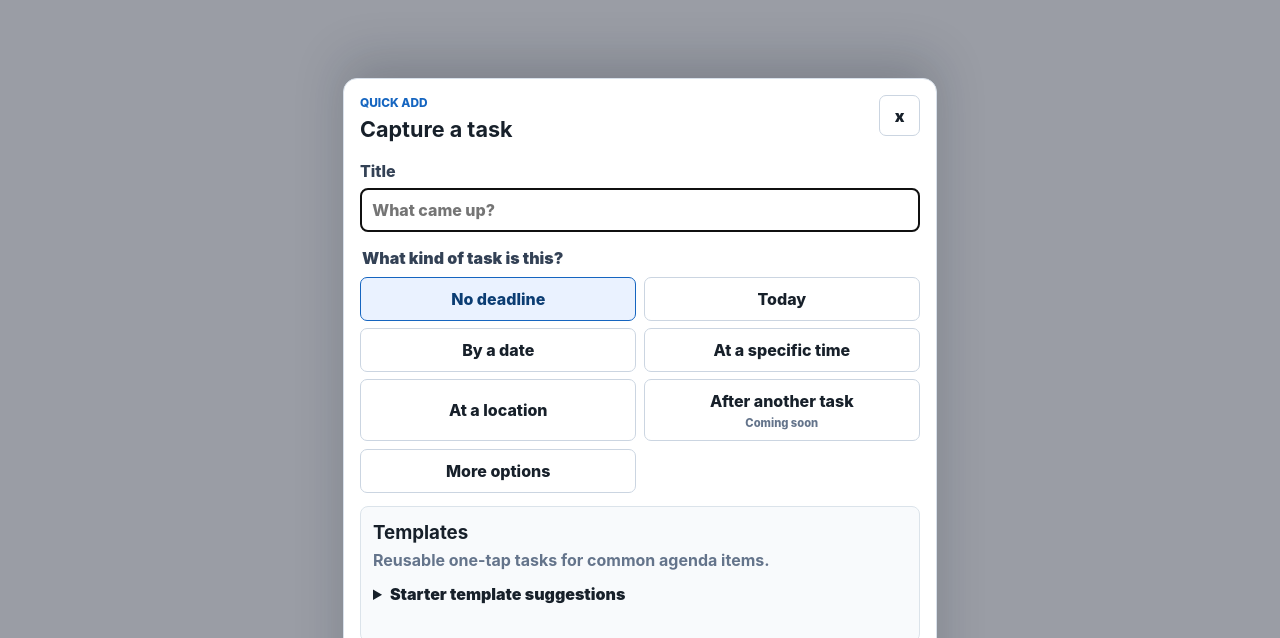
Test: QuickAddTaskSheet › starter suggestion opens prefilled template form with icon
The image size is (1280, 638).
Click the heading "Starter template suggestions" at (508, 594), box [390,584,625,604]
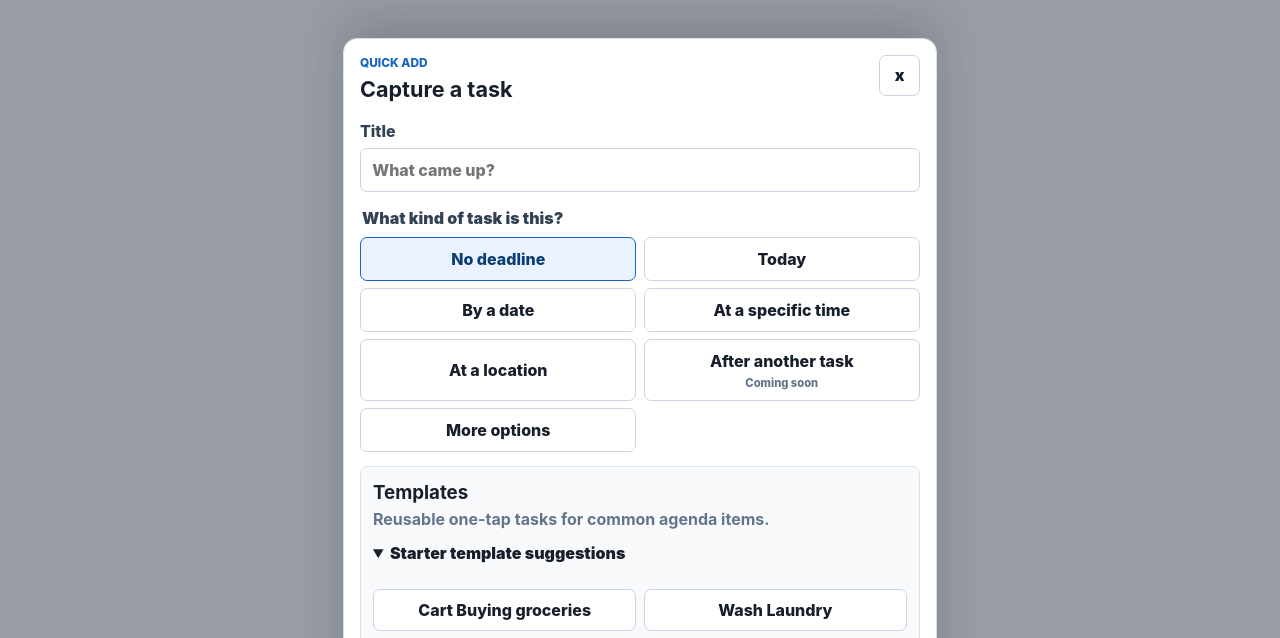
Click the button "Cart Buying groceries" at (505, 610), box [373,589,636,631]
(page scrolled)
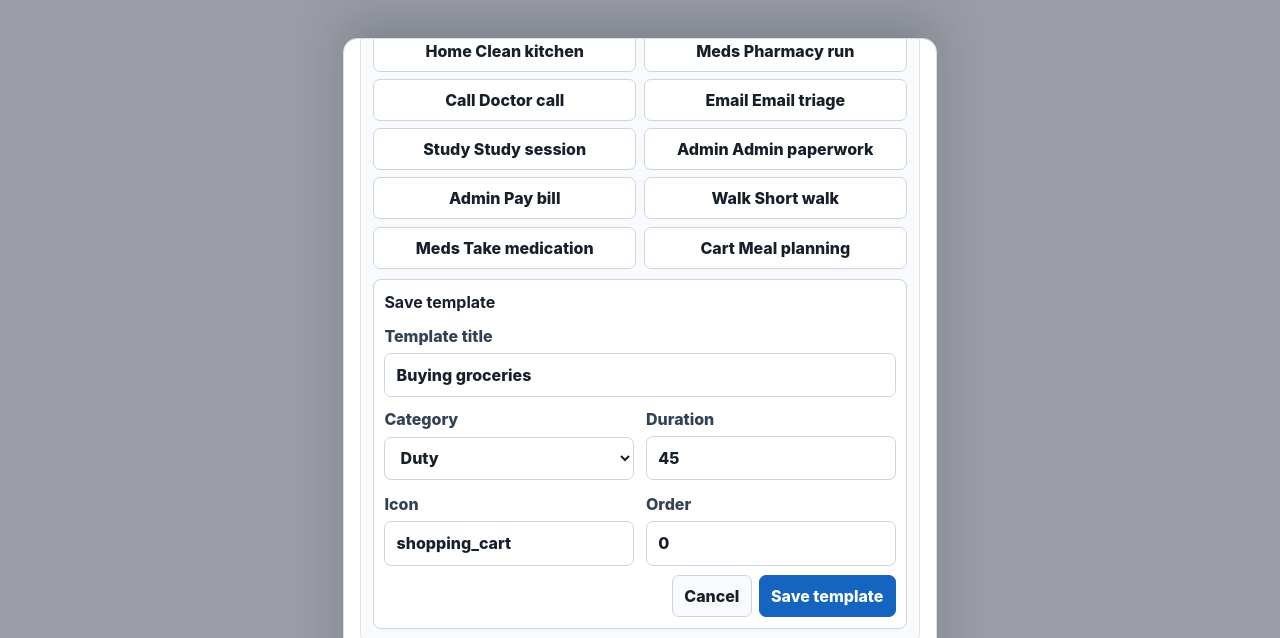
Check: the field showing "Buying groceries" is shown, box [384,353,896,397]
Check: the field showing "shopping_cart" is shown, box [384,521,634,566]
